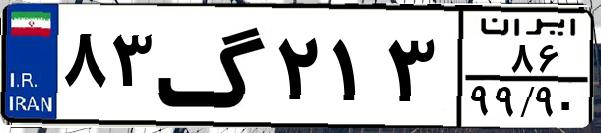0: (560, 70, 590, 125)
1: (330, 28, 385, 110)
2: (270, 28, 330, 110)
3: (385, 28, 445, 110), (110, 28, 156, 98)
6: (537, 27, 568, 80)
8: (57, 26, 110, 100), (508, 27, 537, 80)
9: (470, 70, 495, 125), (495, 70, 520, 125), (535, 70, 560, 125)
گ: (156, 12, 270, 120)
